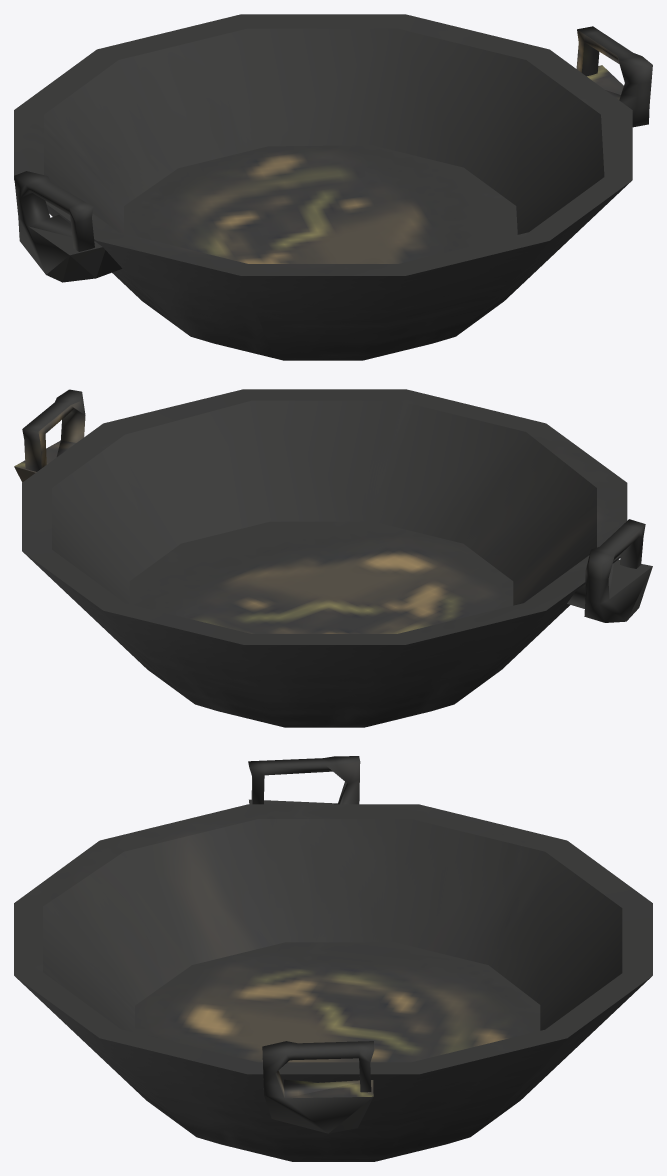
Rendered from Wokpan.fbx.
The picture shows the model from 3 angles, top to bottom: view 1: azimuth 30°, elevation 25°; view 2: azimuth 150°, elevation 25°; view 3: azimuth 270°, elevation 25°; orthographic projection. The views are drawn at different scales.
Parts seen in each view (by area): view 1: Wokpan; view 2: Wokpan; view 3: Wokpan.
Part boxes in pixels (x1,y1,x2,y2): Wokpan: (14, 14, 652, 360); Wokpan: (14, 389, 652, 727); Wokpan: (14, 756, 652, 1161).
Size of the model in its own units: 62.42 by 18.77 by 56.2.
